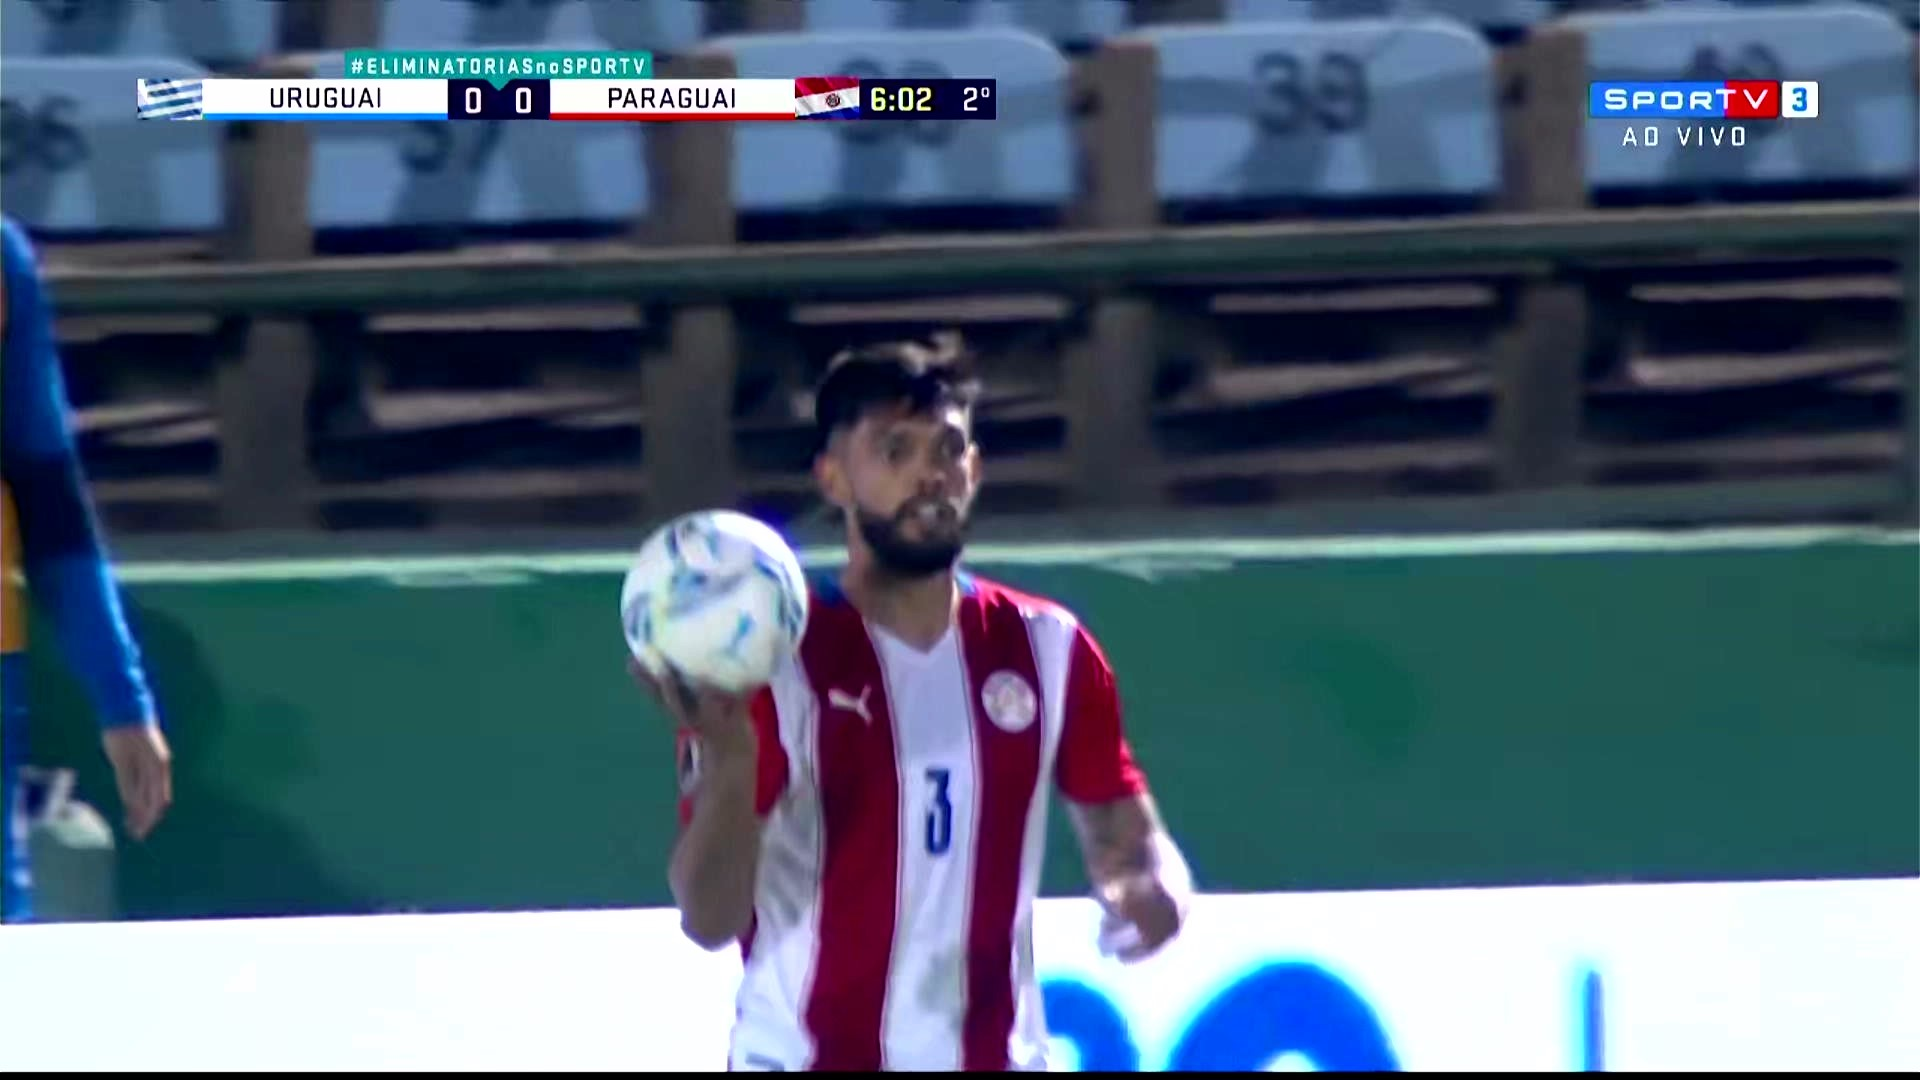SporTV3: (1588, 80, 1818, 119)
